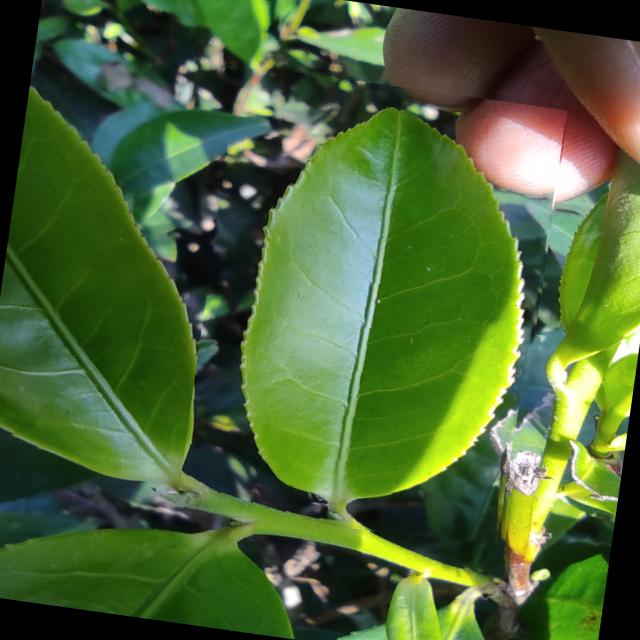Category C 4-7 days: (177, 64, 568, 556), (180, 52, 570, 540)
